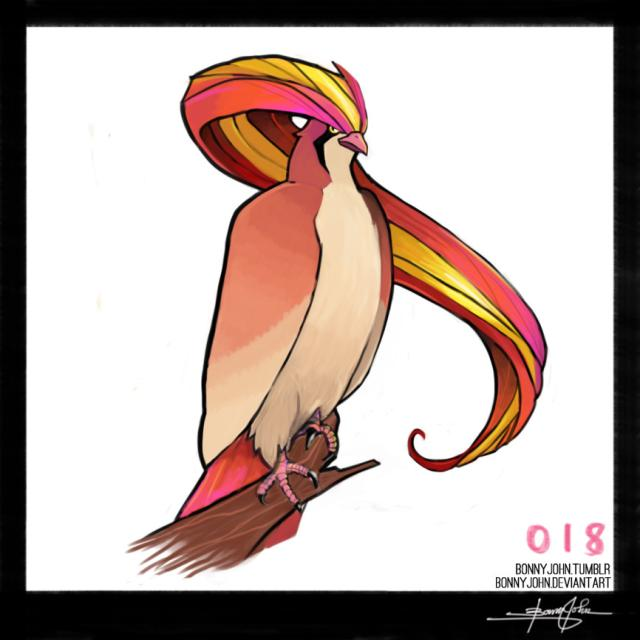Pidgeot: (181, 55, 398, 506)
